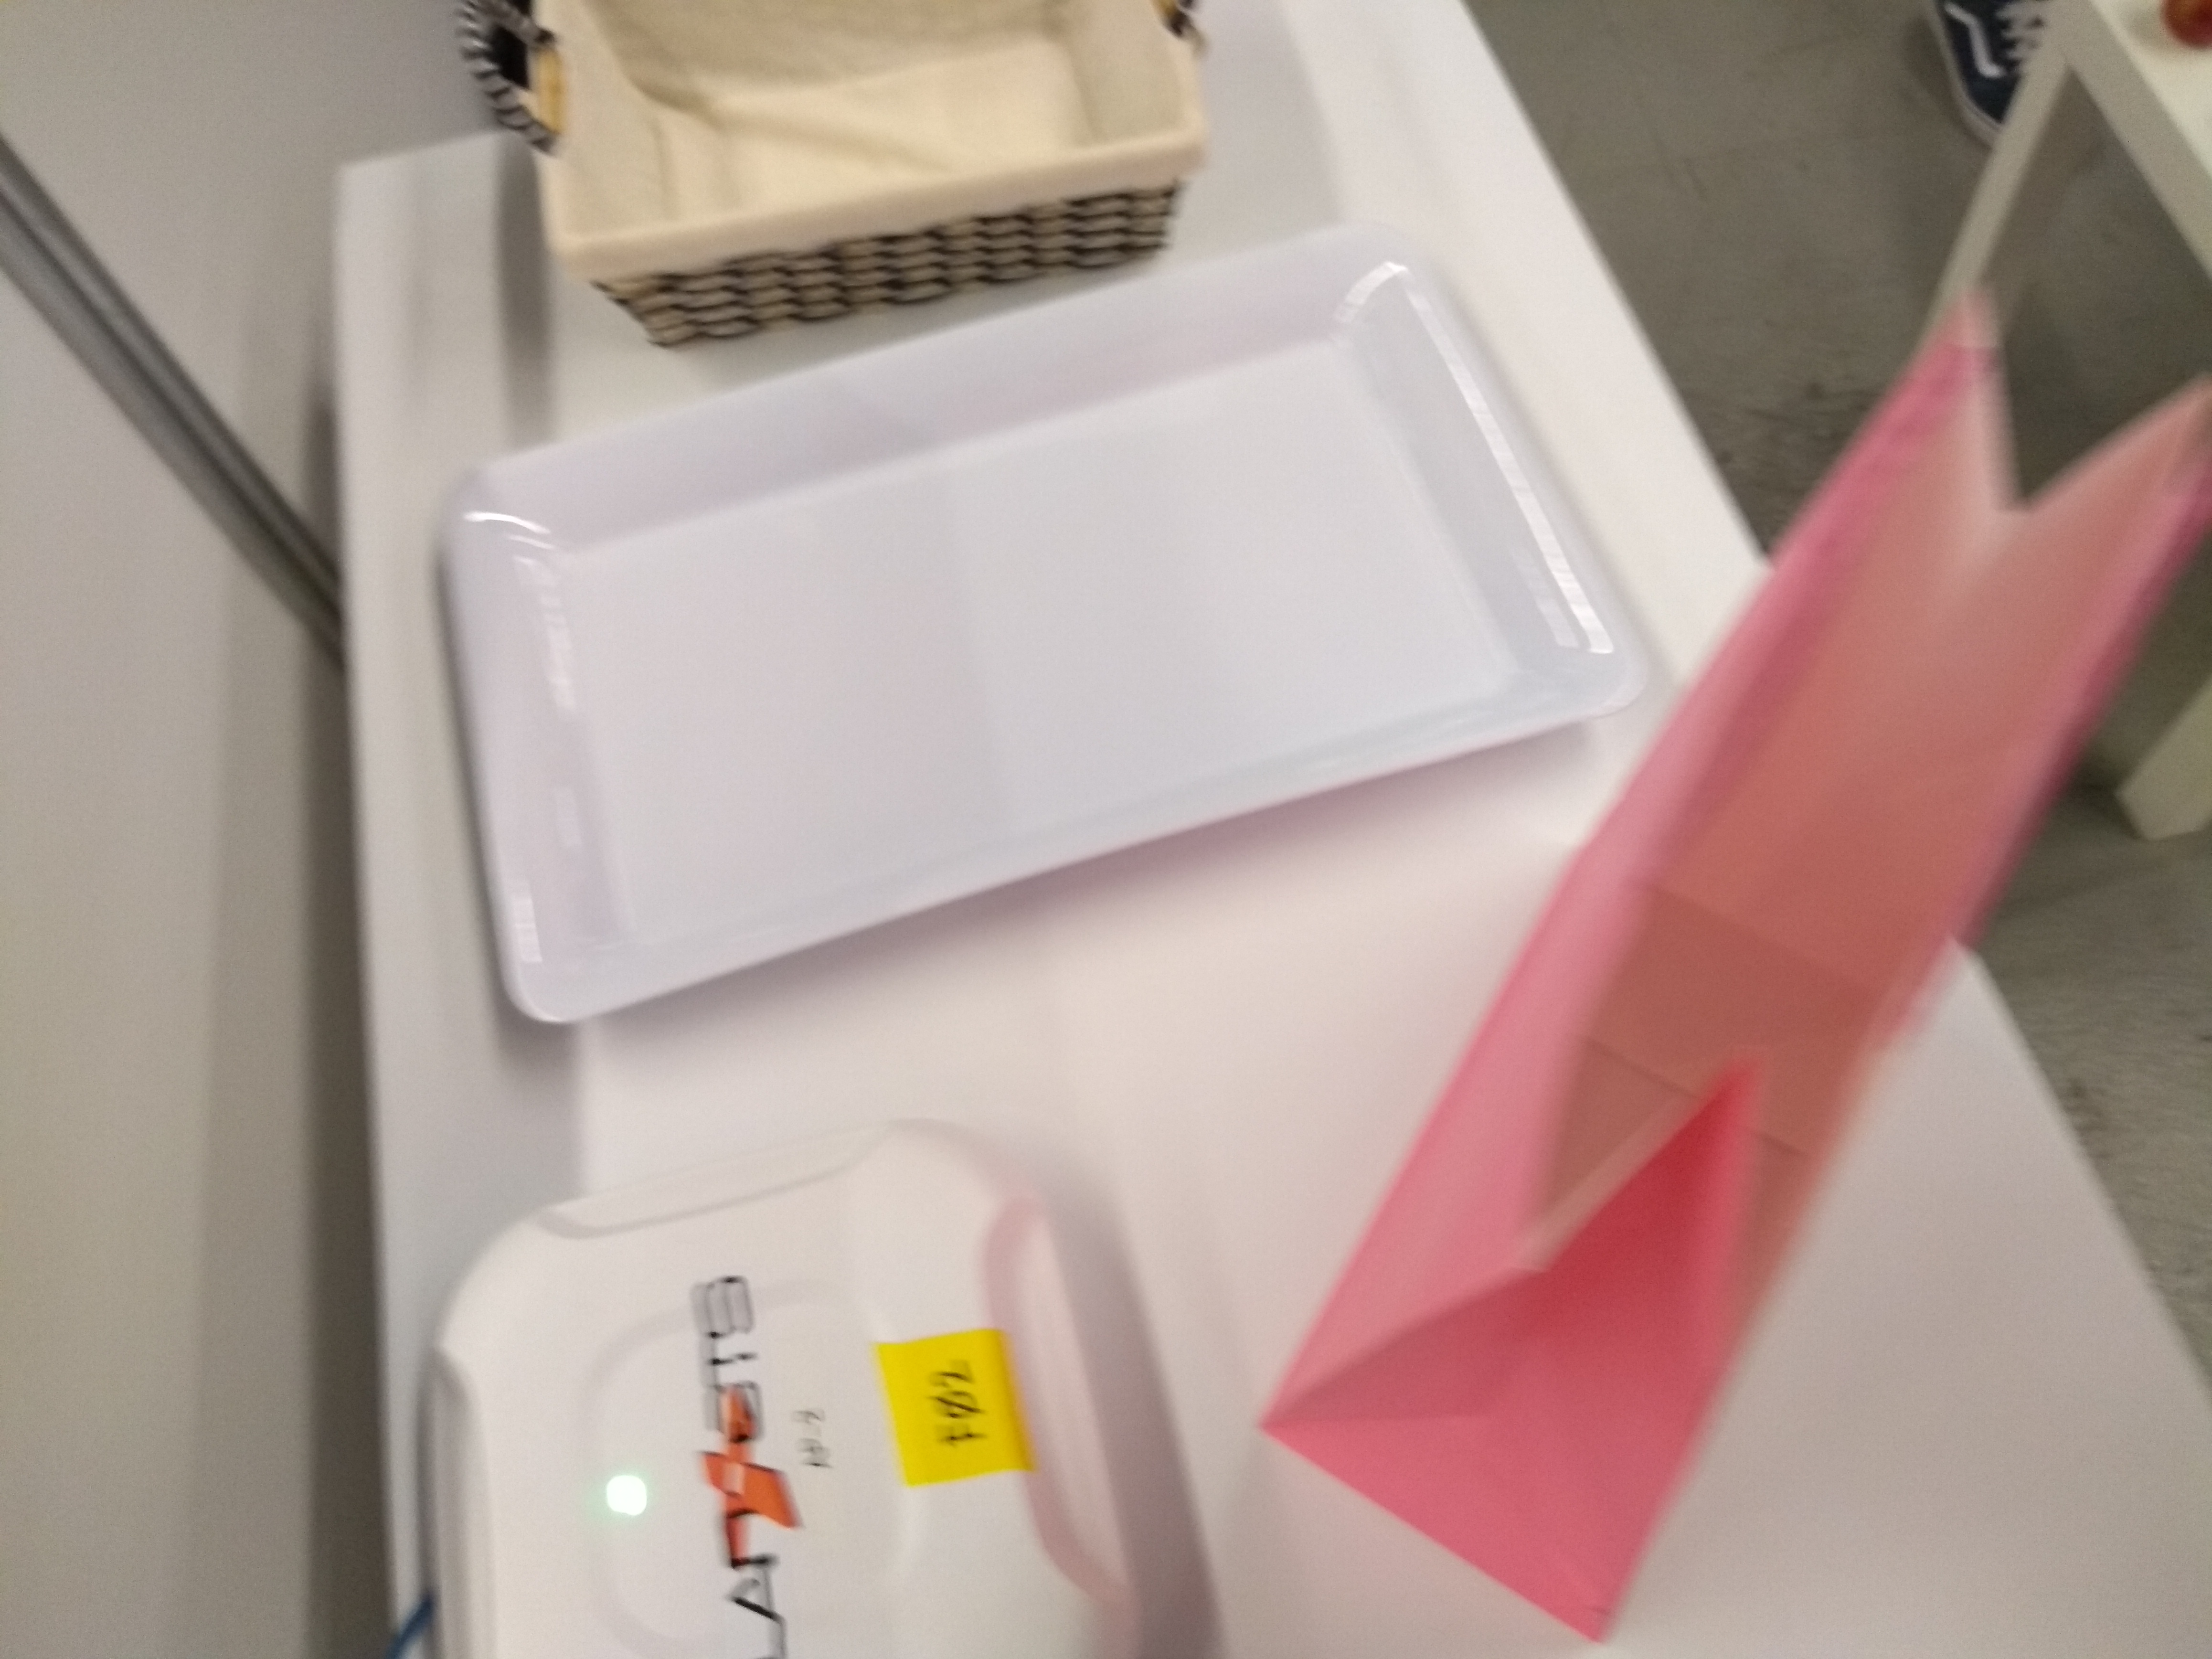basket: (453, 0, 1209, 319)
help_me_carry_opl: (1252, 277, 2205, 1650)
tray: (432, 218, 1667, 1049)
